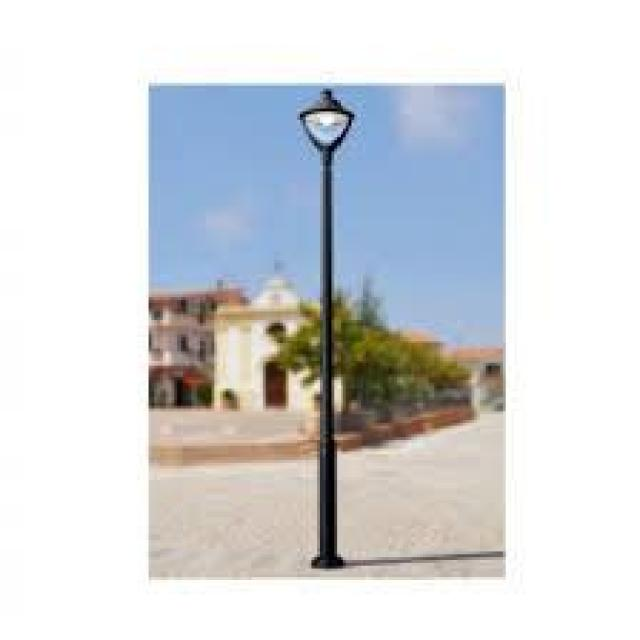pole: (303, 202, 356, 572)
